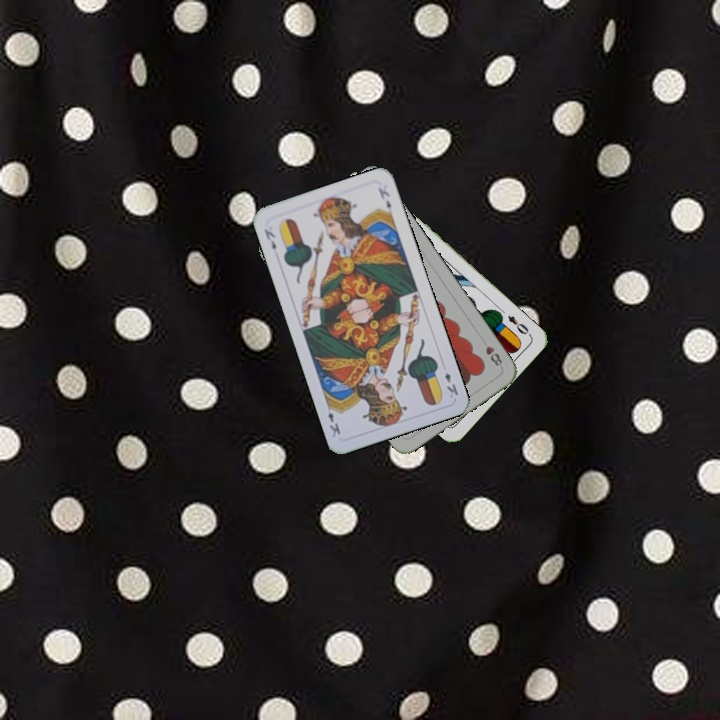EK: (441, 368, 461, 401), (260, 225, 279, 253)
EO: (503, 311, 534, 339)
H8: (481, 342, 505, 369)
